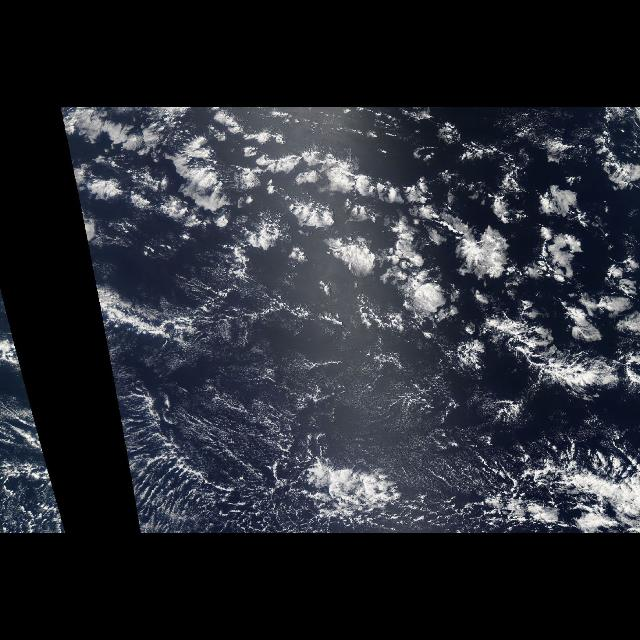Flower: (61, 115, 640, 422)
Gravel: (273, 431, 637, 533)
Sugar: (125, 278, 533, 530)
